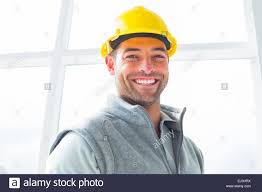Person_wearing_helmet: (101, 7, 172, 68)
